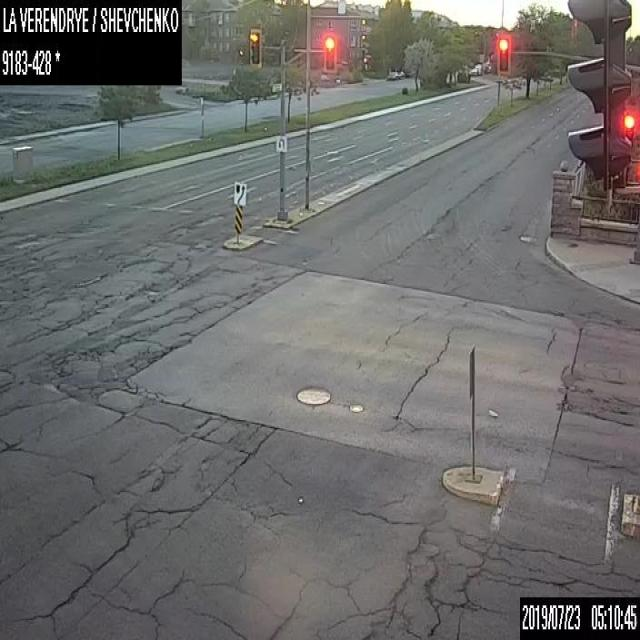vehicle: (387, 70, 398, 80), (397, 70, 404, 78)
